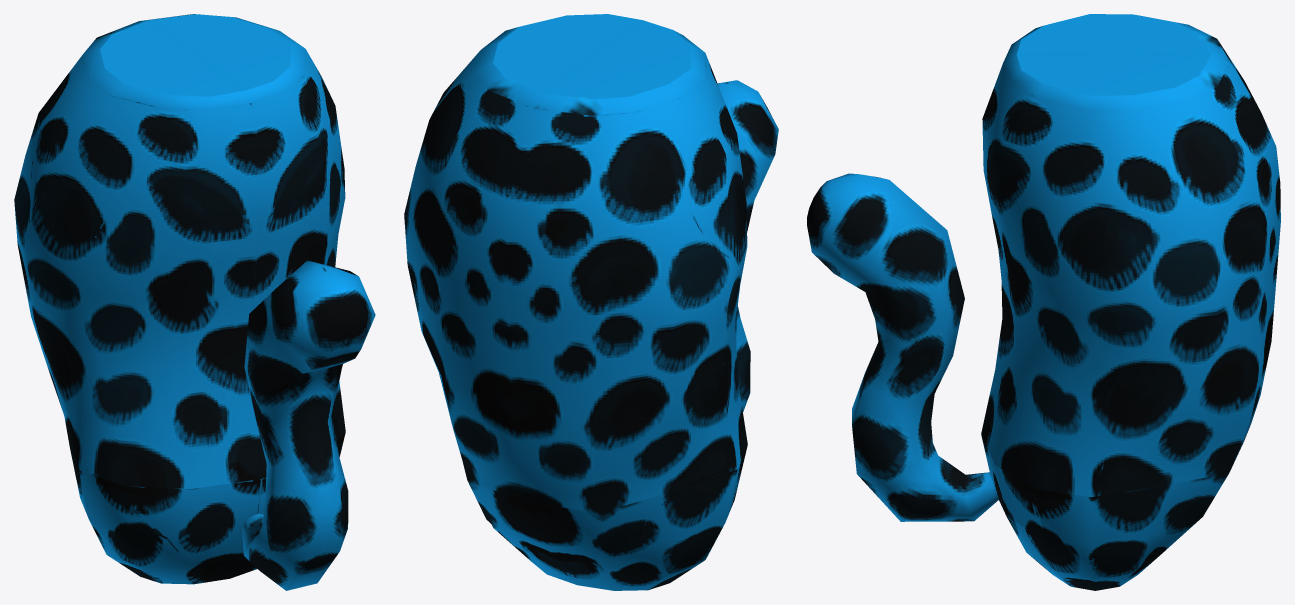
The picture shows the model from 3 angles, left to right: view 1: azimuth 30°, elevation 25°; view 2: azimuth 150°, elevation 25°; view 3: azimuth 270°, elevation 25°; orthographic projection. The views are drawn at different scales.
Visible parts, largest first — view 1: Mesh; view 2: Mesh; view 3: Mesh.
Boxes of the visible parts, x1,y1,x2,y2 form: Mesh: [14, 14, 375, 590]; Mesh: [404, 14, 778, 590]; Mesh: [807, 14, 1280, 590].
Bounding box in the file's own units: 1.74 × 2.81 × 2.31.
